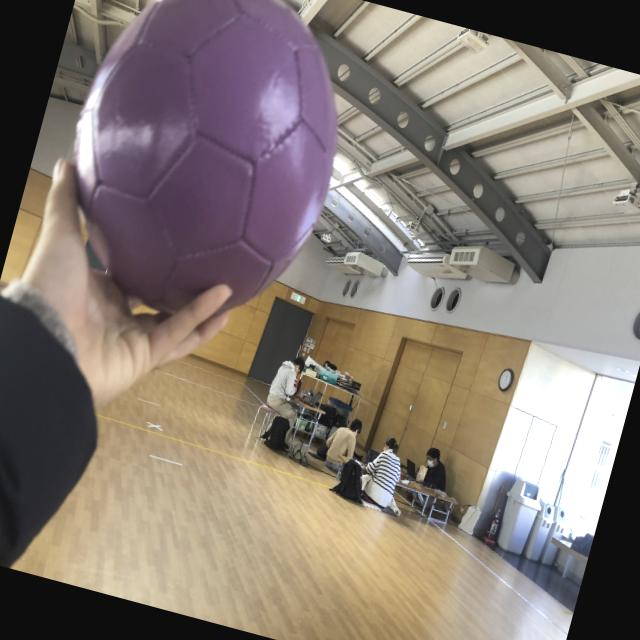purple_ball: (36, 0, 372, 347)
